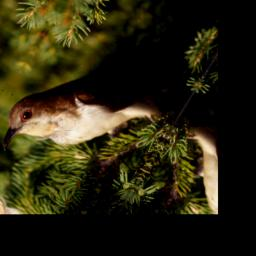Cuckoo: (0, 0, 203, 201)
